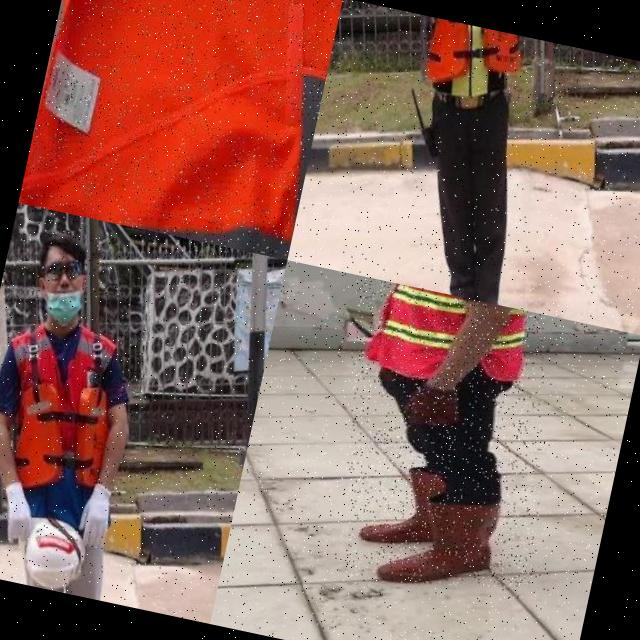boots: (366, 480, 512, 602), (351, 454, 456, 560)
vest: (17, 0, 342, 259), (0, 302, 153, 543), (341, 276, 551, 410), (402, 13, 533, 114)
